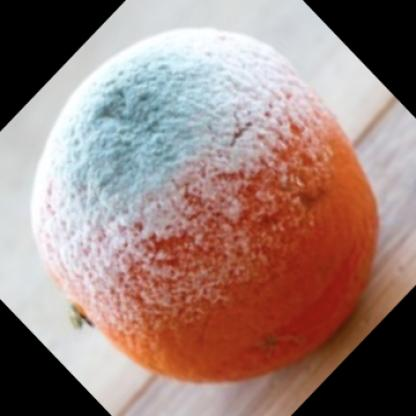rotten: (33, 26, 380, 386)
